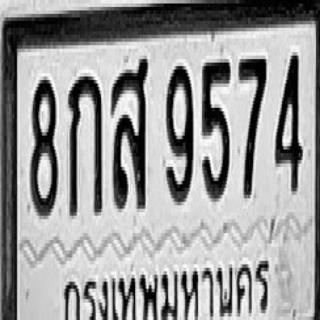A01: (67, 73, 101, 216)
A40: (111, 56, 148, 209)
N04: (274, 52, 302, 191)
N05: (201, 58, 230, 200)
N07: (239, 56, 266, 198)
N08: (30, 76, 57, 216)
N09: (165, 63, 193, 202)
P04: (59, 242, 275, 320)
